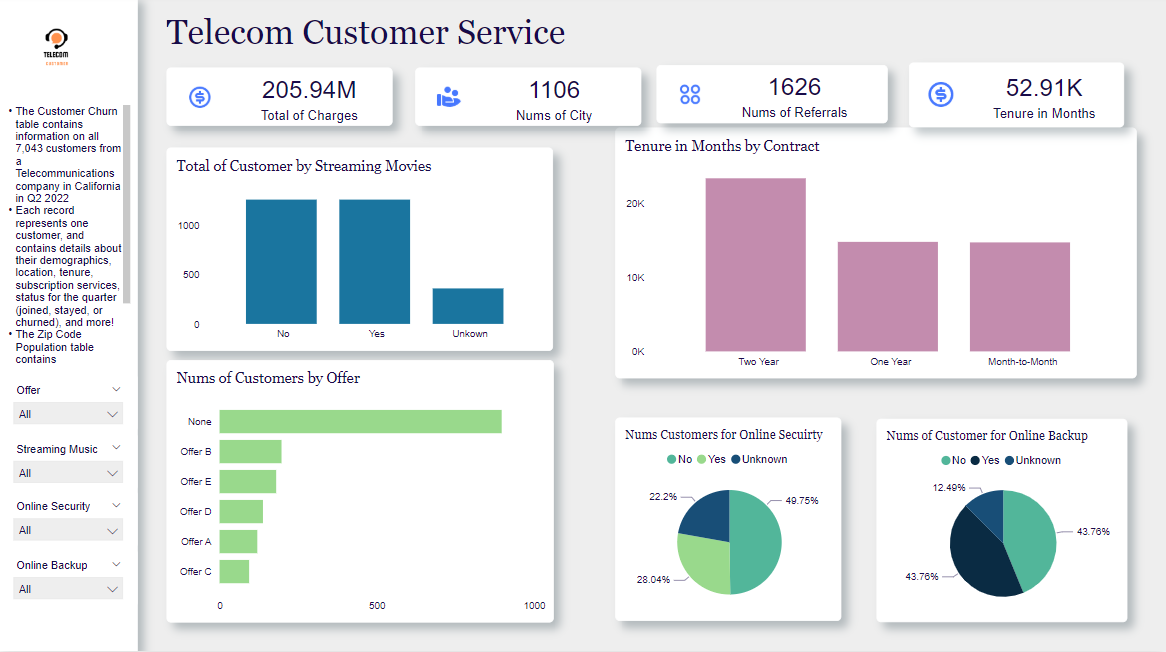

What the dashboard file says about the page in this screenshot:
{"tool":"powerbi","page":{"name":"Telecom Customer Services Analysis 2","canvas":[1280,720],"ordinal":1},"visuals":[{"type":"shape","box":[0,0,152,720],"z":0,"group":"g5"},{"type":"shape","box":[998.1,74,235.7,71],"z":0,"group":"g6"},{"type":"shape","box":[721.1,76.9,253.7,64],"z":0,"group":"g3"},{"type":"shape","box":[184,80,248,64],"z":0,"group":"g4"},{"type":"shape","box":[456,80,248,64],"z":0,"group":"g2"},{"type":"columnChart","fields":{"Category":["Telecom Customer Contract & Payment.Contract"],"Y":["Sum(Telecom Customer Churn Facts.Tenure in Months)"]},"box":[675.9,145.3,571.7,275.6],"z":0},{"type":"slicer","fields":{"Values":["Telecom Customer Phone Services & Offers.Offer"]},"box":[0,416,152,64],"z":0,"group":"g1"},{"type":"card","title":"Sales","fields":{"Values":["Sum(Telecom Customer Churn Facts.Tenure in Months)"]},"box":[1066.5,74,159.6,71],"z":1000,"group":"g6"},{"type":"card","title":"Sales","fields":{"Values":["Telecom Customer Churn Facts.Nums of Referrals"]},"box":[787.5,76.8,171.2,63.9],"z":1000,"group":"g3"},{"type":"card","title":"Sales","fields":{"Values":["Telecom Customer Churn Facts.Total of Charges"]},"box":[256,80,168,64],"z":1000,"group":"g4"},{"type":"card","title":"Sales","fields":{"Values":["Count(Telecom Customer Location.City)"]},"box":[520,80,176,64],"z":1000,"group":"g2"},{"type":"textbox","box":[0,120.7,144,287.9],"z":1000,"group":"g5"},{"type":"columnChart","title":"Total of Customer by Streaming Movies","fields":{"Category":["Telecom Customer Streaming.Streaming Movies"],"Y":["Telecom Customer Churn Facts.Nums of Customers"]},"box":[183.7,167.3,423.7,223.5],"z":1000},{"type":"slicer","fields":{"Values":["Telecom Customer Streaming.Streaming Music"]},"box":[0,480,152,64],"z":1000,"group":"g1"},{"type":"image","box":[1005.7,82.9,53.2,53.2],"z":2000,"group":"g6"},{"type":"image","box":[729.3,84.9,57.3,48],"z":2000,"group":"g3"},{"type":"image","box":[192,88,56,48],"z":2000,"group":"g4"},{"type":"image","box":[464,88,56,48],"z":2000,"group":"g2"},{"type":"group","id":"g1","title":"Slicers","box":[0,416,152,257],"z":2000,"group":"g5"},{"type":"pieChart","title":"Nums Customers  for Online Secuirty ","fields":{"Category":["Telecom Customer Secuirty & Backup.Online Security"],"Y":["Telecom Customer Churn Facts.Nums of Customers"]},"box":[675.9,463.4,248.2,223.5],"z":2000},{"type":"slicer","fields":{"Values":["Telecom Customer Secuirty & Backup.Online Security"]},"box":[0,544,152,64],"z":2000,"group":"g1"},{"type":"pieChart","title":"Nums  of Customer for Online Backup","fields":{"Category":["Telecom Customer Secuirty & Backup.Online Backup"],"Y":["Telecom Customer Churn Facts.Nums of Customers"]},"box":[962.5,464.8,275.6,223.5],"z":3000},{"type":"slicer","fields":{"Values":["Telecom Customer Secuirty & Backup.Online Backup"]},"box":[0,608,152,64],"z":3000,"group":"g1"},{"type":"group","id":"g2","title":"Header 4","box":[456,80,240,64],"z":4000},{"type":"group","id":"g3","title":"Header 3","box":[183.7,76.8,791.1,611.5],"z":5000},{"type":"group","id":"g4","title":"Header 1","box":[184,80,248,64],"z":6000},{"type":"group","id":"g5","title":"Side Bar","box":[0,0,152,720],"z":7000},{"type":"textbox","box":[183.7,19.2,492.2,57.6],"z":9000},{"type":"actionButton","box":[1018.7,189.2,261.9,75.4],"z":10000},{"type":"group","id":"g6","title":"Header 1","box":[998.1,74,235.8,69.9],"z":12000},{"type":"image","box":[0,0,131.6,112.4],"z":12001,"group":"g5"},{"type":"clusteredBarChart","fields":{"Category":["Telecom Customer Phone Services & Offers.Offer"],"Y":["Telecom Customer Churn Facts.Nums of Customers"]},"box":[183.7,400.5,425,287.8],"z":13001,"group":"g3"}]}

Visuals, with their boxes on the page's 1280x720 design canvas (x1, y1, x2, y2). These are canvas units, not pixel positions in the 1166x652 screenshot, which may show the page scaled, cropped or inside an application window:
shape: (x1=0, y1=0, x2=152, y2=720)
shape: (x1=998, y1=74, x2=1234, y2=145)
shape: (x1=721, y1=77, x2=975, y2=141)
shape: (x1=184, y1=80, x2=432, y2=144)
shape: (x1=456, y1=80, x2=704, y2=144)
columnChart - Telecom Customer Contract & Payment.Contract x Sum(Telecom Customer Churn Facts.Tenure in Months): (x1=676, y1=145, x2=1248, y2=421)
slicer - Telecom Customer Phone Services & Offers.Offer: (x1=0, y1=416, x2=152, y2=480)
"Sales" card: (x1=1066, y1=74, x2=1226, y2=145)
"Sales" card: (x1=788, y1=77, x2=959, y2=141)
"Sales" card: (x1=256, y1=80, x2=424, y2=144)
"Sales" card: (x1=520, y1=80, x2=696, y2=144)
textbox: (x1=0, y1=121, x2=144, y2=409)
"Total of Customer by Streaming Movies" columnChart: (x1=184, y1=167, x2=607, y2=391)
slicer - Telecom Customer Streaming.Streaming Music: (x1=0, y1=480, x2=152, y2=544)
image: (x1=1006, y1=83, x2=1059, y2=136)
image: (x1=729, y1=85, x2=787, y2=133)
image: (x1=192, y1=88, x2=248, y2=136)
image: (x1=464, y1=88, x2=520, y2=136)
"Slicers" group: (x1=0, y1=416, x2=152, y2=673)
"Nums Customers  for Online Secuirty " pieChart: (x1=676, y1=463, x2=924, y2=687)
slicer - Telecom Customer Secuirty & Backup.Online Security: (x1=0, y1=544, x2=152, y2=608)
"Nums  of Customer for Online Backup" pieChart: (x1=962, y1=465, x2=1238, y2=688)
slicer - Telecom Customer Secuirty & Backup.Online Backup: (x1=0, y1=608, x2=152, y2=672)
"Header 4" group: (x1=456, y1=80, x2=696, y2=144)
"Header 3" group: (x1=184, y1=77, x2=975, y2=688)
"Header 1" group: (x1=184, y1=80, x2=432, y2=144)
"Side Bar" group: (x1=0, y1=0, x2=152, y2=720)
textbox: (x1=184, y1=19, x2=676, y2=77)
actionButton: (x1=1019, y1=189, x2=1281, y2=265)
"Header 1" group: (x1=998, y1=74, x2=1234, y2=144)
image: (x1=0, y1=0, x2=132, y2=112)
clusteredBarChart - Telecom Customer Phone Services & Offers.Offer x Telecom Customer Churn Facts.Nums of Customers: (x1=184, y1=400, x2=609, y2=688)
